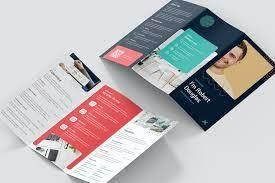paper: (100, 0, 275, 132), (1, 63, 178, 183)
